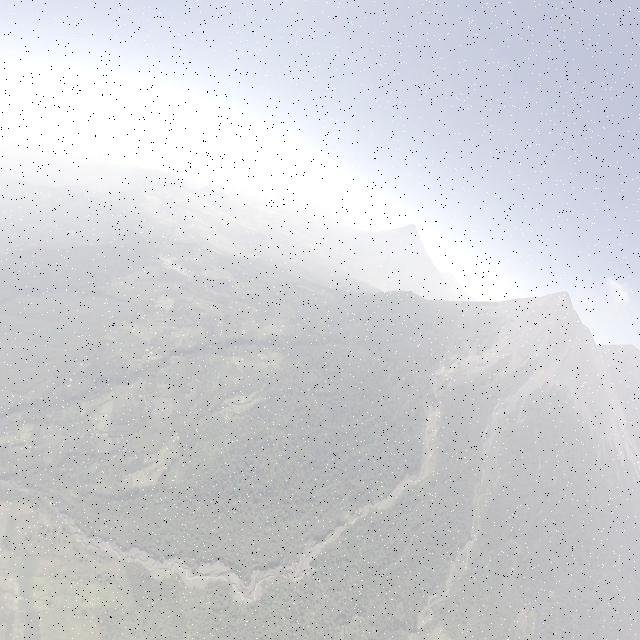Summit: (544, 288, 576, 312)
